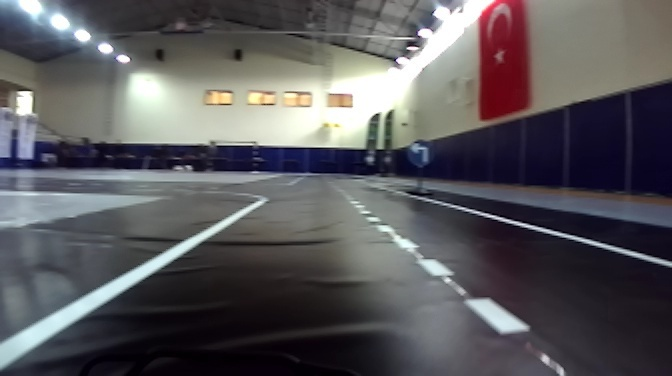sola_donus: (405, 139, 438, 168)
